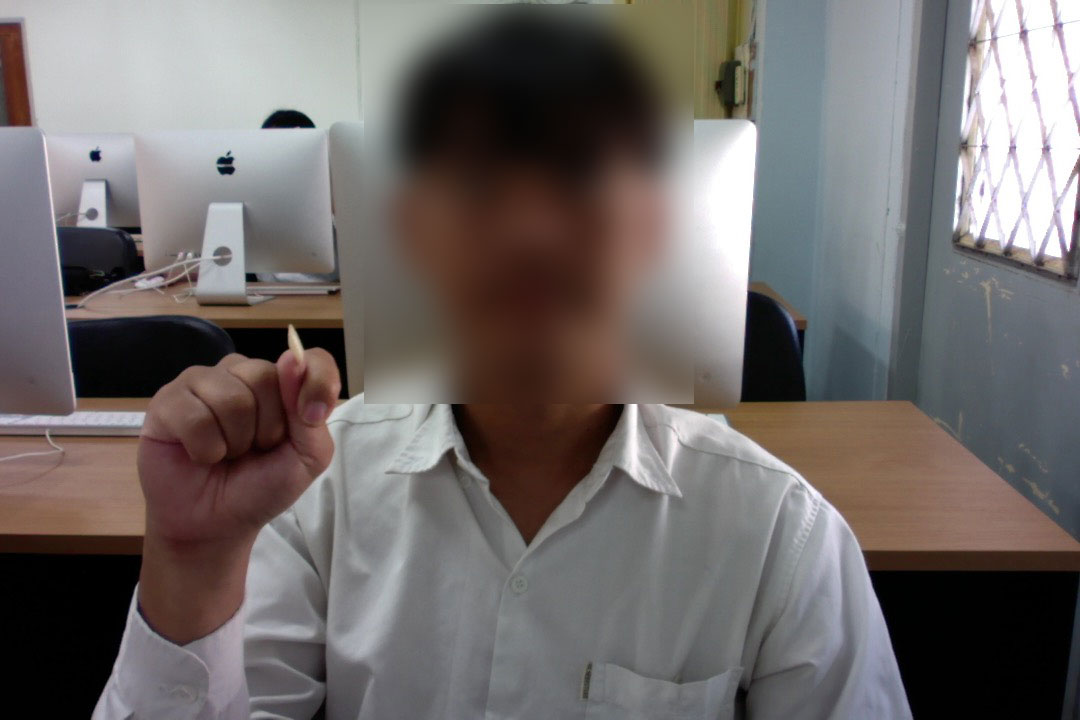tor: (131, 323, 344, 554)
